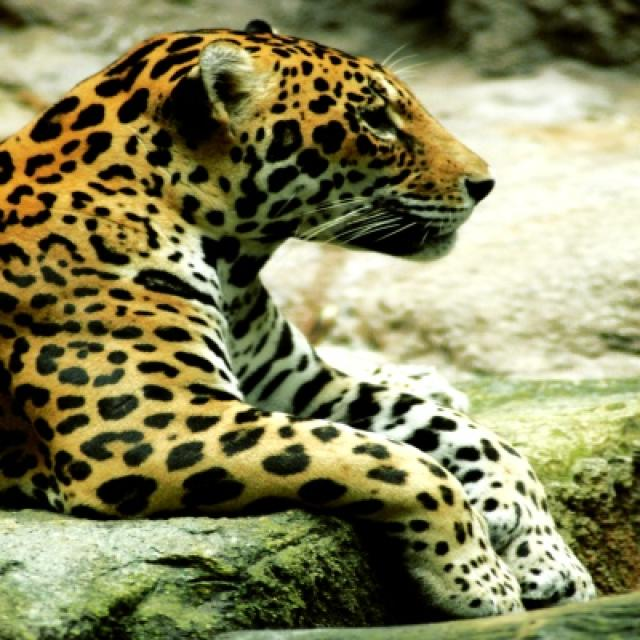Jaguar: (0, 12, 599, 617)
